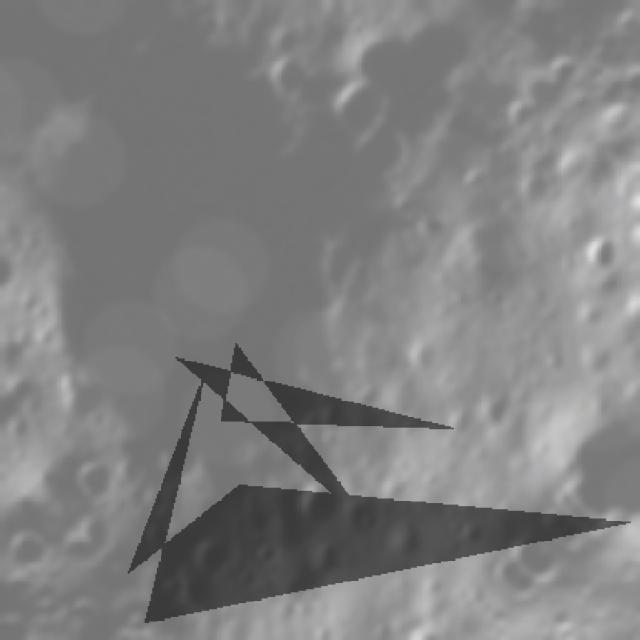crater: (0, 0, 480, 532), (498, 342, 640, 522), (264, 446, 370, 552), (306, 48, 408, 150), (240, 26, 337, 123), (57, 438, 134, 514), (175, 513, 250, 589), (567, 209, 640, 285), (388, 320, 454, 386), (238, 528, 292, 582), (0, 237, 29, 305), (615, 271, 640, 344), (0, 334, 15, 397)
